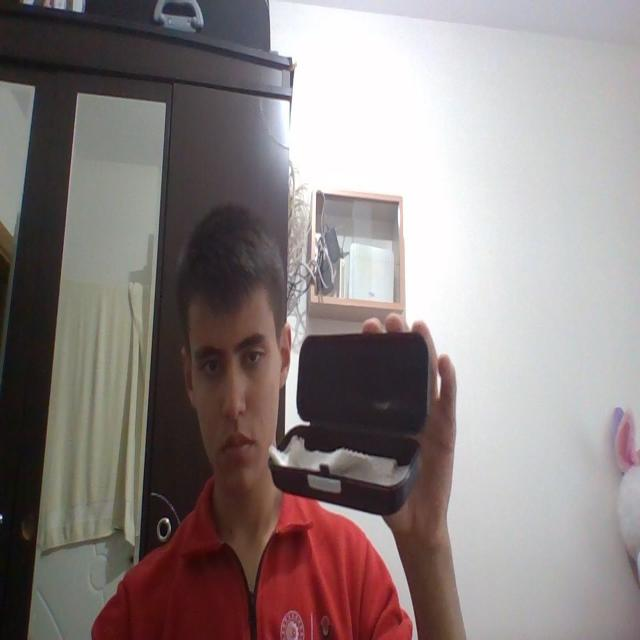glasses-box: (268, 332, 431, 514)
